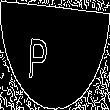P_N: (44, 28, 66, 82)
